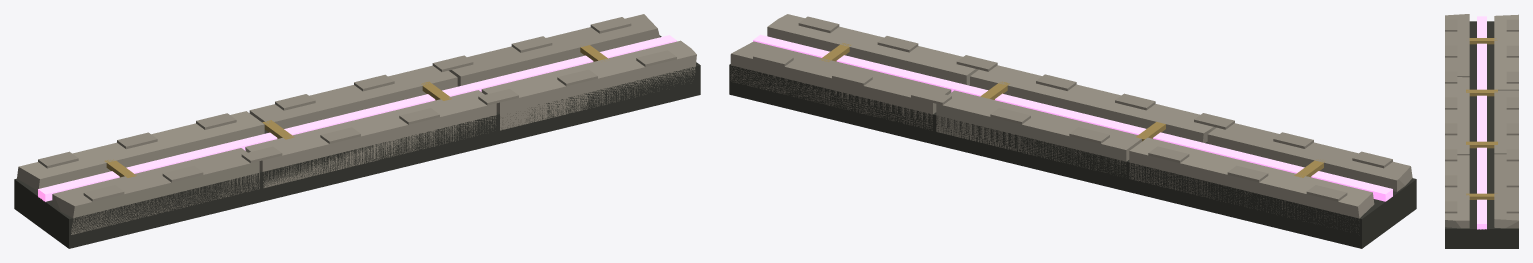
File: zr_wire_conduit_4m.glb
3 renders of one model, left to right at view 1: azimuth 30°, elevation 25°; view 2: azimuth 150°, elevation 25°; view 3: azimuth 270°, elevation 25°, orthographic. The views are drawn at different scales.
Parts seen in each view (by area): view 1: zr_wire_conduit_4m; view 2: zr_wire_conduit_4m; view 3: zr_wire_conduit_4m.
Part boxes in pixels (left/top/right/bottom): zr_wire_conduit_4m: left=14, top=14, right=700, bottom=248; zr_wire_conduit_4m: left=729, top=14, right=1416, bottom=248; zr_wire_conduit_4m: left=1445, top=14, right=1518, bottom=248.
Bounding box in the file's own units: 4 × 0.265 × 0.6.
